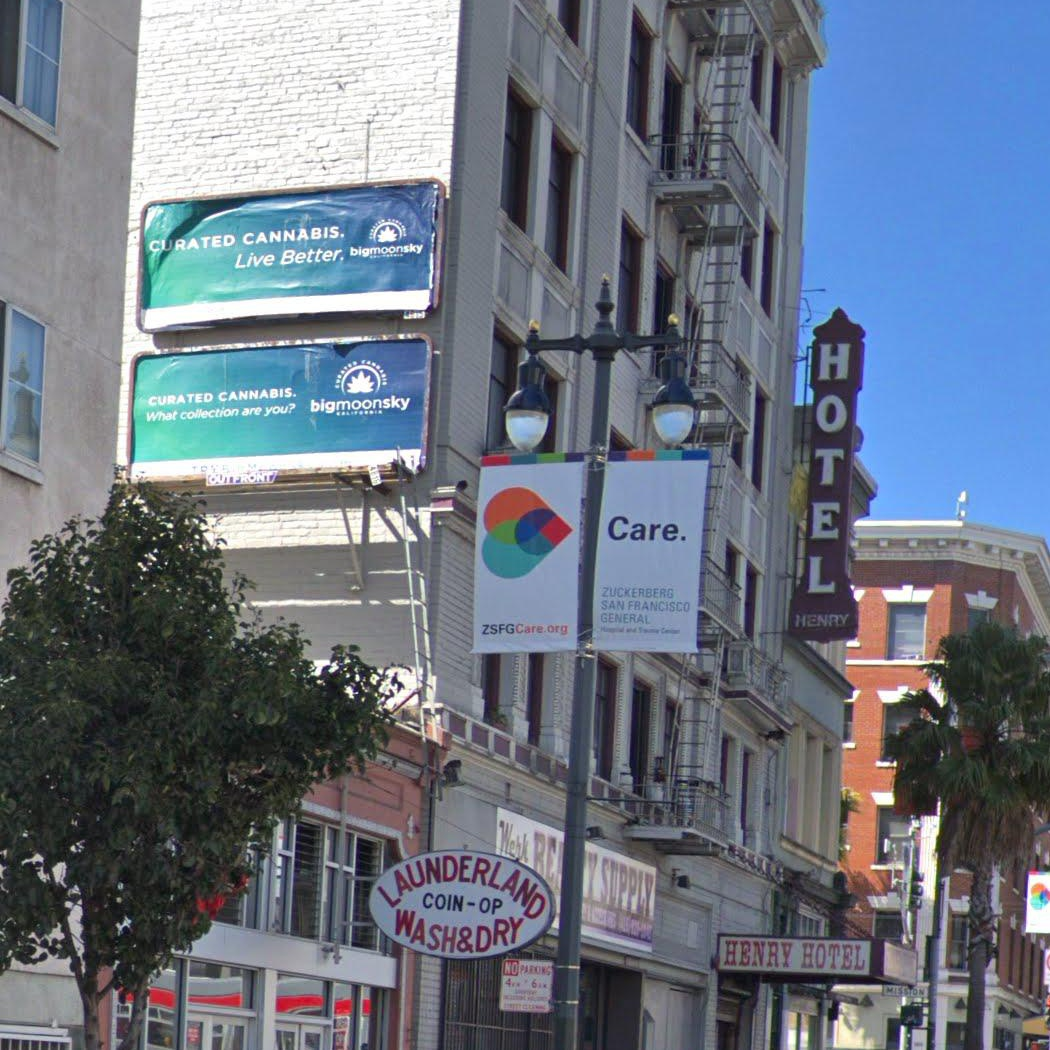No Parking: (499, 959, 554, 1013)
